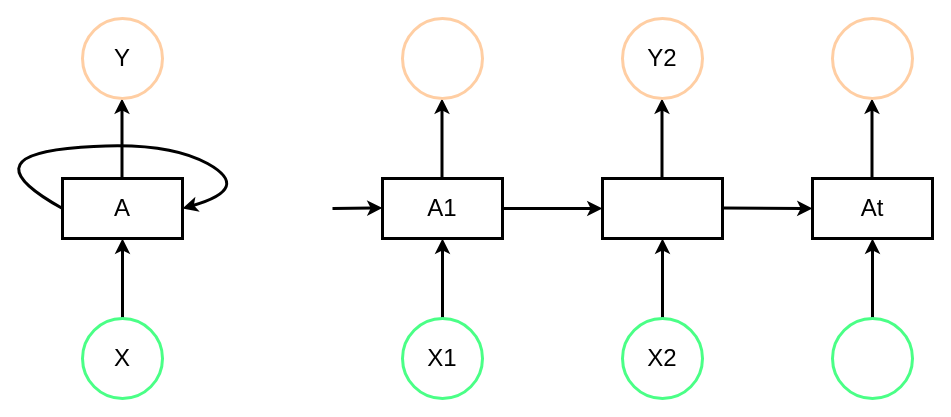
The diagram is 951 pixels wide and 417 high, and some of its shapes have lost their labels. The centre of each missing label's shape, as x and y in pixels:
"A2" goes at [662,208].
"Xt" goes at [872,358].
"Y1" goes at [442,58].
"Yt" goes at [872,58].
